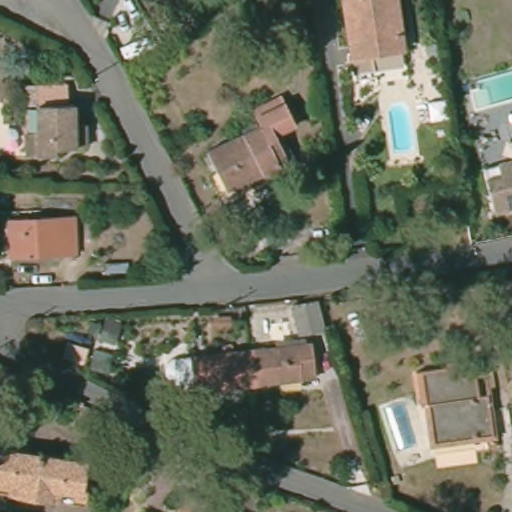pool: (386, 100, 424, 157), (383, 402, 421, 452), (469, 68, 512, 109)
